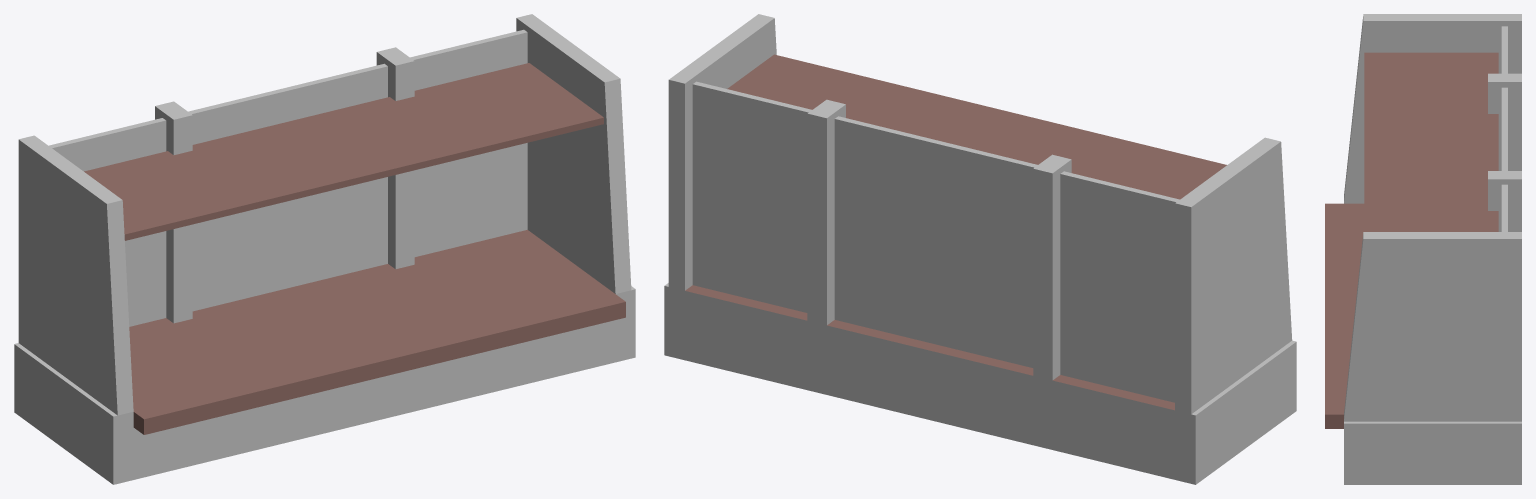
File: egy_shelves.fbx
3 renders of one model, left to right at view 1: azimuth 30°, elevation 25°; view 2: azimuth 150°, elevation 25°; view 3: azimuth 270°, elevation 25°, orthographic. The views are drawn at different scales.
Parts seen in each view (by area): view 1: pCube33, pPlane2, pPlane3; view 2: pCube33, pPlane2, pPlane3; view 3: pCube33, pPlane3, pPlane2.
Part boxes in pixels (bbox=[...]): pCube33: bbox=[14, 14, 635, 484]; pPlane2: bbox=[49, 29, 527, 326]; pPlane3: bbox=[84, 63, 603, 240]; pCube33: bbox=[664, 14, 1296, 484]; pPlane2: bbox=[692, 81, 1179, 402]; pPlane3: bbox=[727, 54, 1226, 199]; pCube33: bbox=[1325, 14, 1521, 484]; pPlane3: bbox=[1364, 52, 1498, 231]; pPlane2: bbox=[1501, 26, 1507, 231].
Size of the model in its own units: 4 by 1.99 by 1.45.
